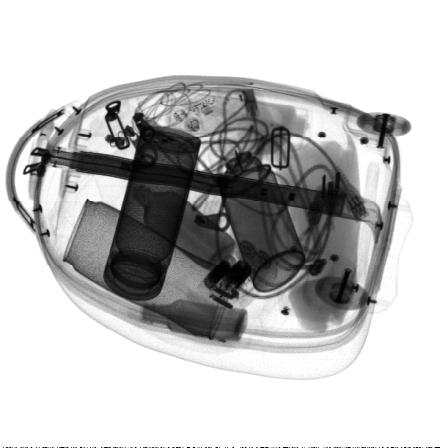Sprayer: (207, 129, 307, 293)
